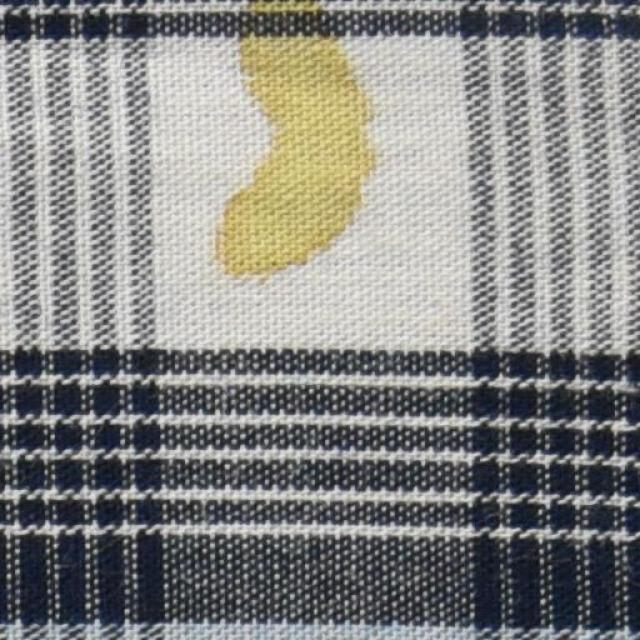Stain: (205, 0, 375, 275)
